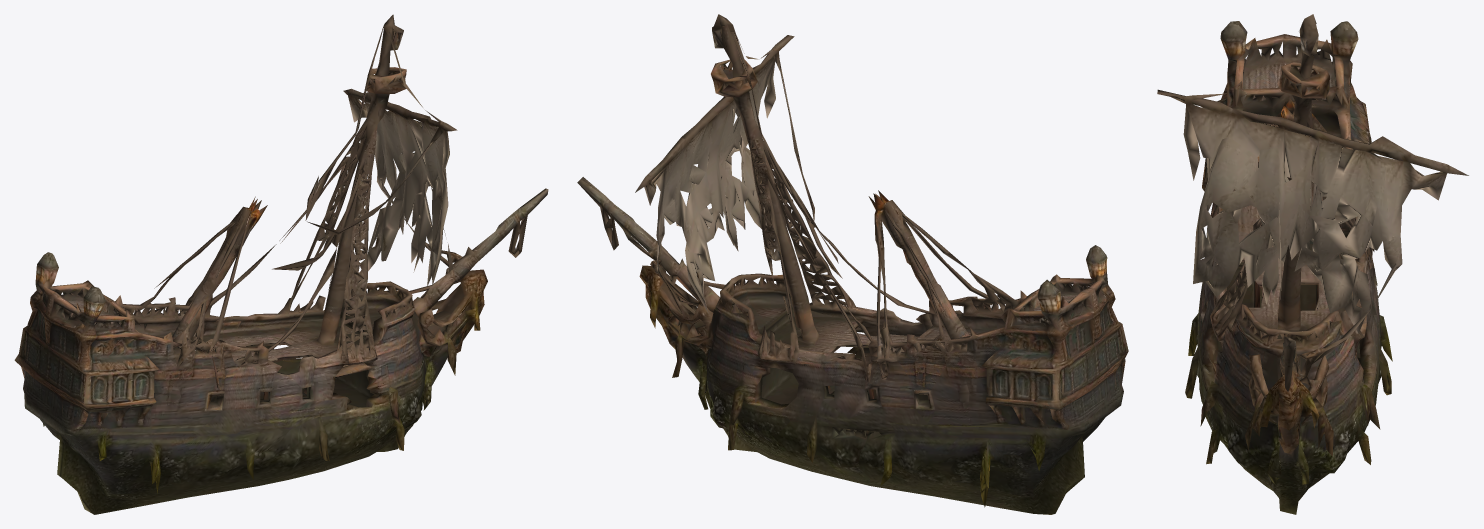
Rendered from shipwreck.glb.
3 views of the same model, side by side, from view 1: azimuth 30°, elevation 25°; view 2: azimuth 150°, elevation 25°; view 3: azimuth 270°, elevation 25° (orthographic). The views are drawn at different scales.
Visible parts, largest first — view 1: shipwreck; view 2: shipwreck; view 3: shipwreck.
Part boxes in pixels (x1=…): shipwreck: x1=14, y1=14, x2=548, y2=514; shipwreck: x1=577, y1=14, x2=1128, y2=514; shipwreck: x1=1157, y1=14, x2=1468, y2=514.
Size of the model in its own units: 27.41 by 22 by 12.34.
1 material, 1 textured.
